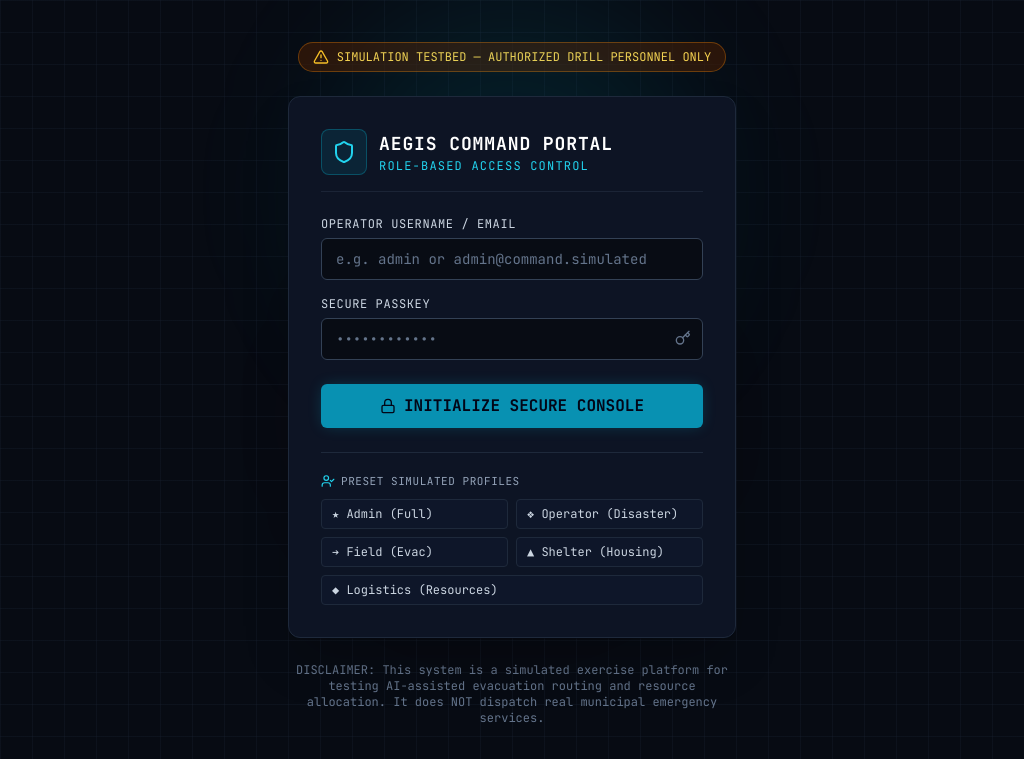
Test: Phase 3 — Authentication & RBAC › Login Page › shows network error message when backend is unreachable
Type "admin" into the field with id "login-username".
click(512, 259); type("admin")  # box [321, 238, 703, 280]
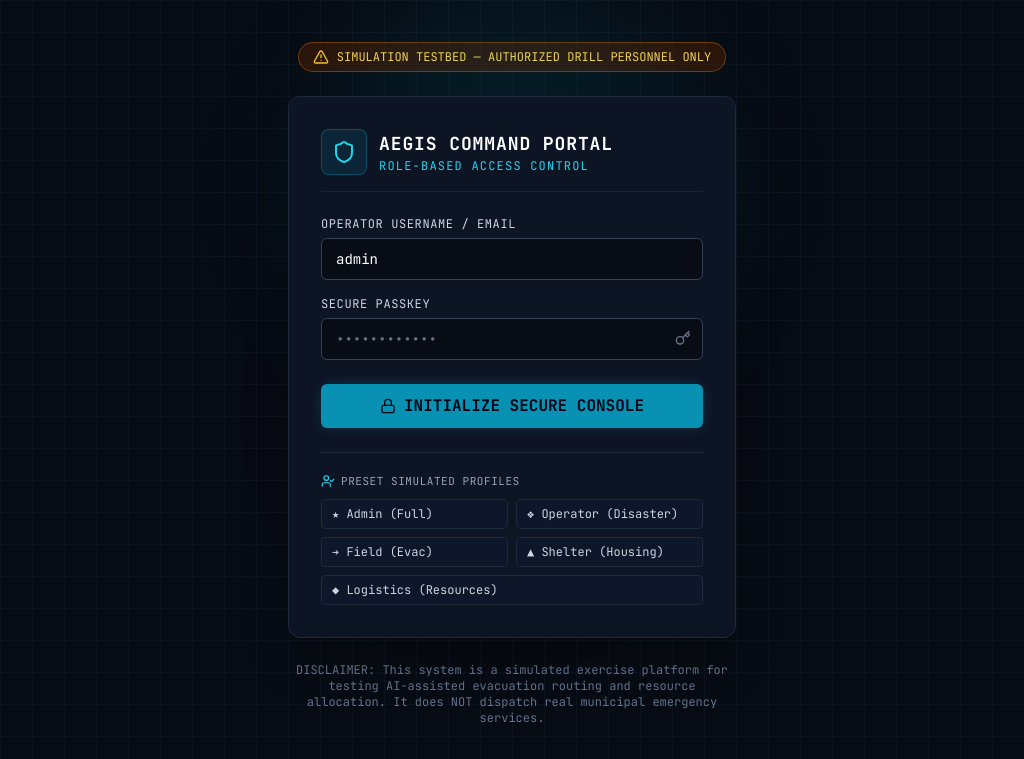
Type "AnyPassword!" into the password field with id "login-password".
click(512, 339); type("AnyPassword!")  # box [321, 318, 703, 360]
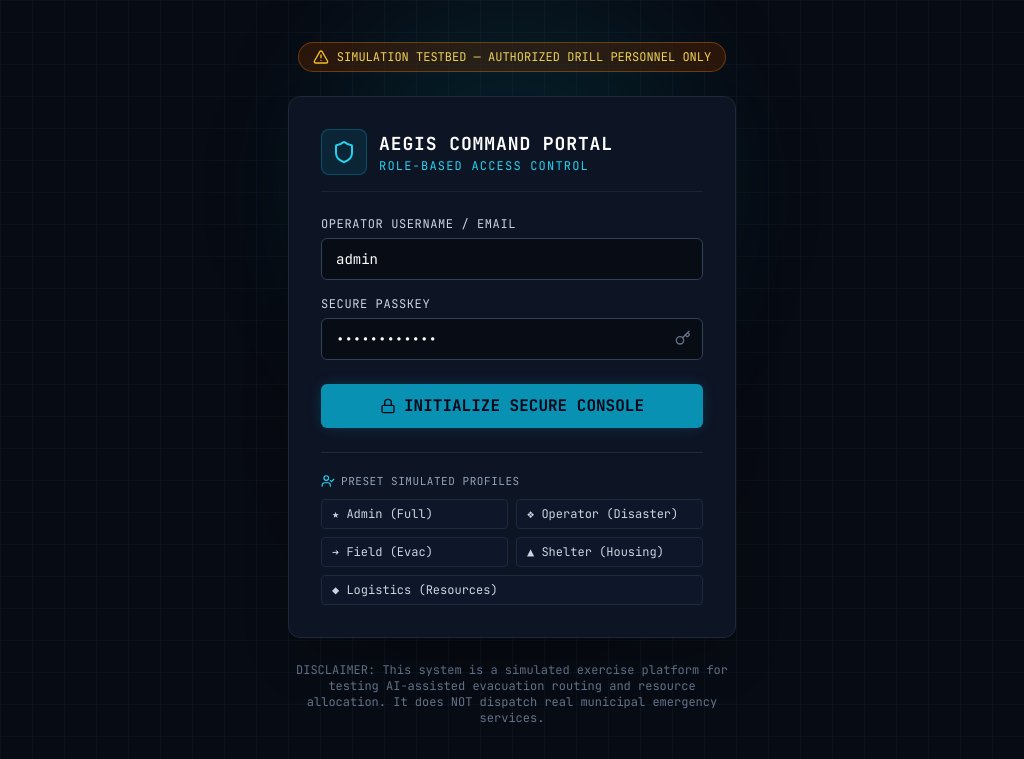
Click the button with id "login-submit-btn".
click(512, 406)  # box [321, 384, 703, 428]
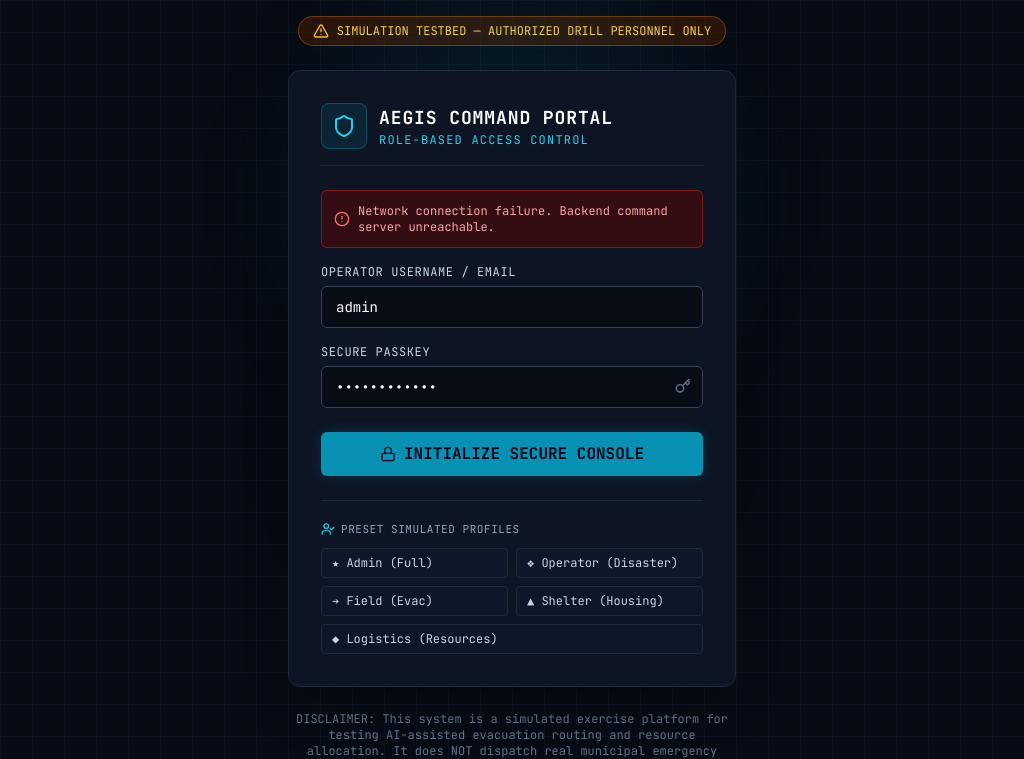
Now the text "Network connection failure" is shown, box [358, 203, 668, 235]
